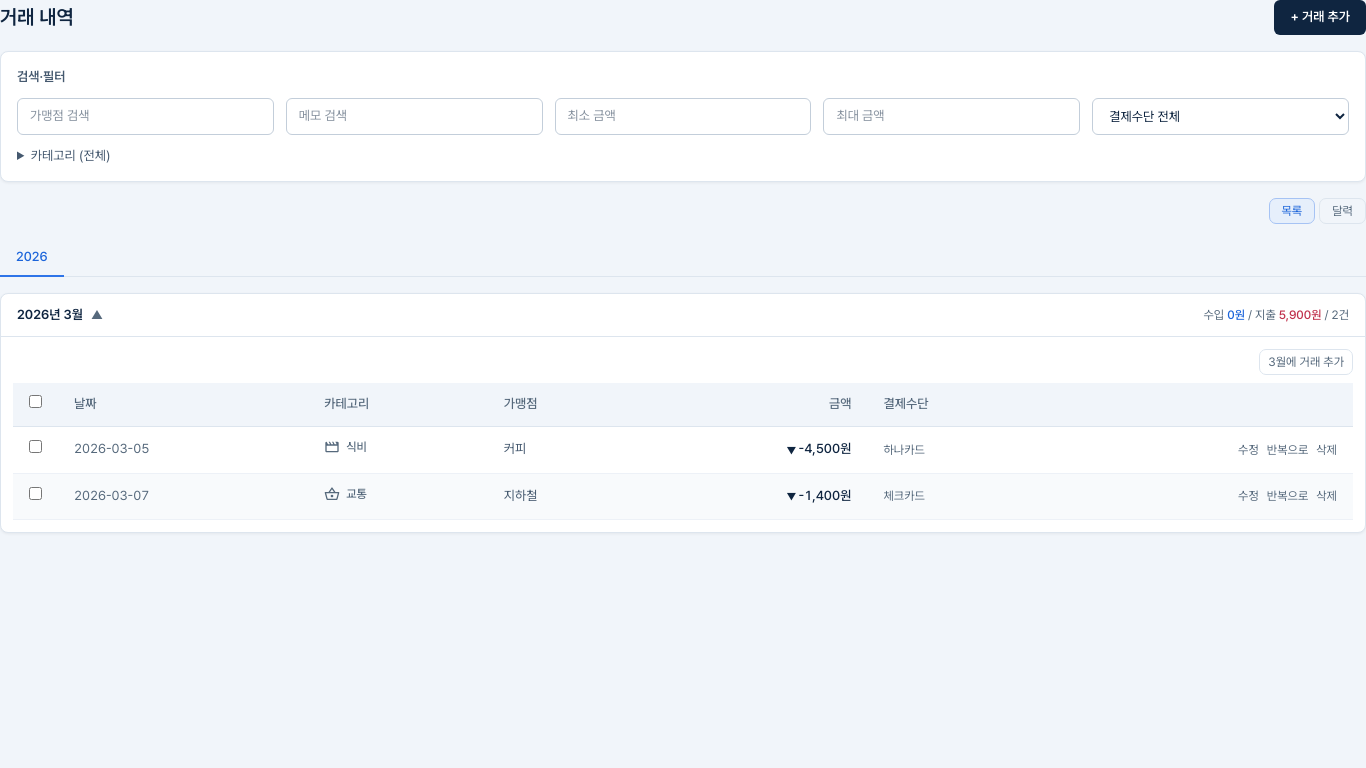
Test case: 일괄 삭제 › 몇 건인지와 되돌릴 수 없다는 것을 함께 알린다
The width and height of the screenshot is (1366, 768).
Click the checkbox named "2026-03-05 커피 거래 선택": [36, 447] box top-left (29, 440), bottom-right (42, 453)
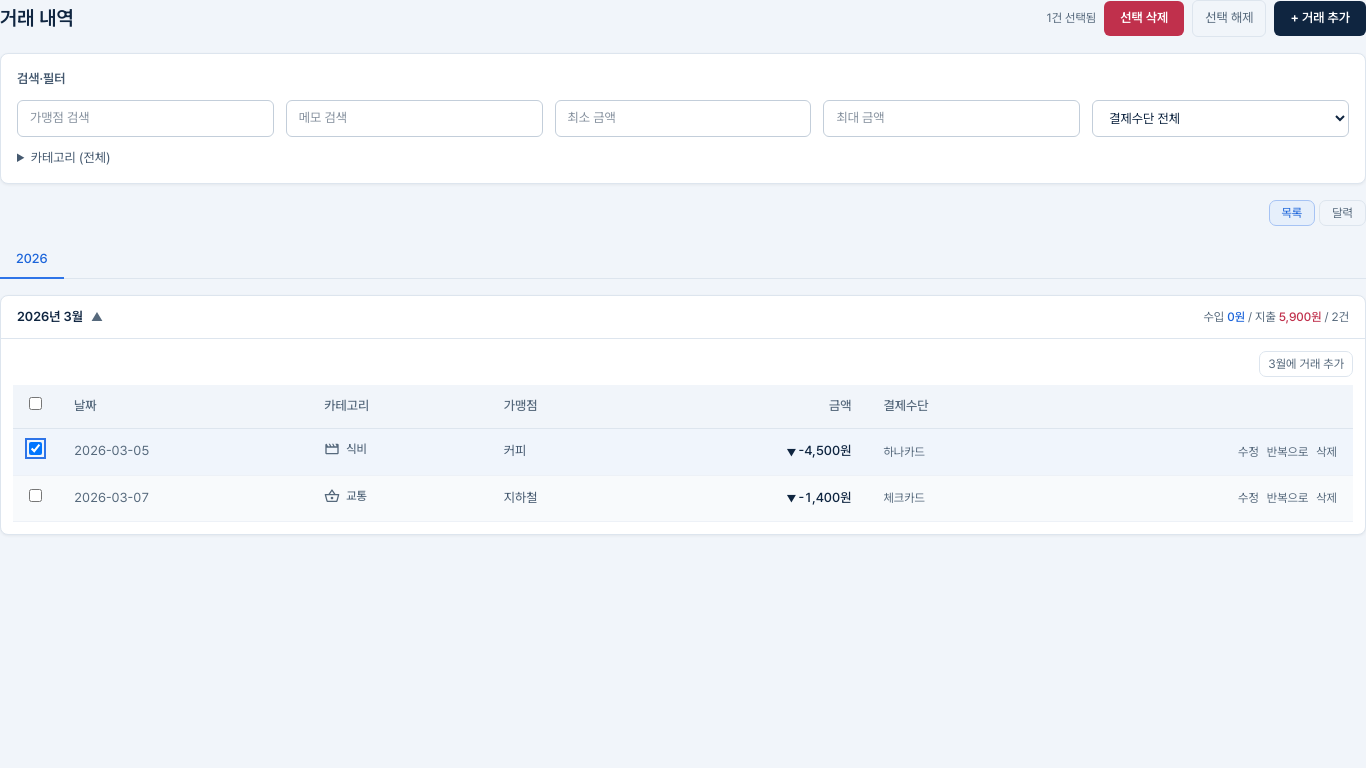
Click the checkbox named "2026-03-07 지하철 거래 선택": [36, 496] box top-left (29, 489), bottom-right (42, 502)
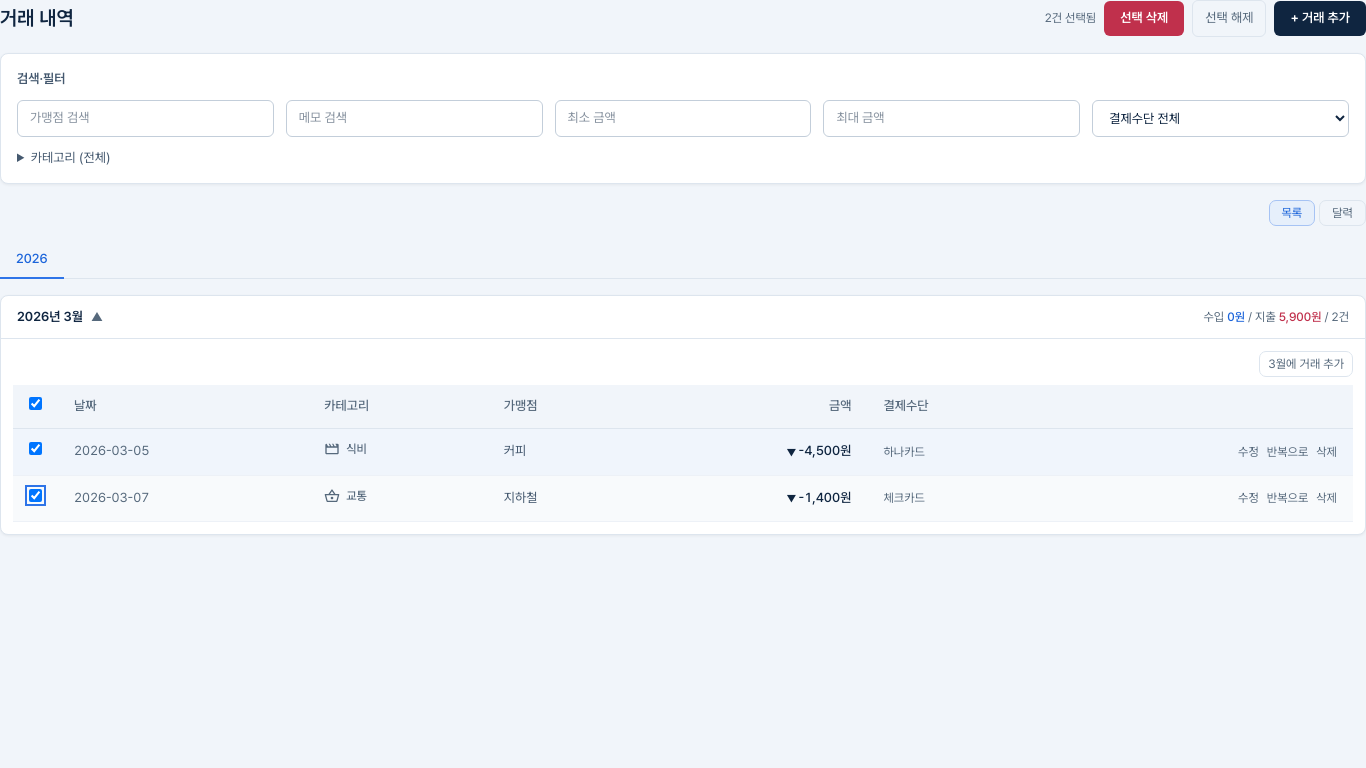
Click the button "선택 삭제": [1144, 18] box top-left (1104, 1), bottom-right (1184, 36)
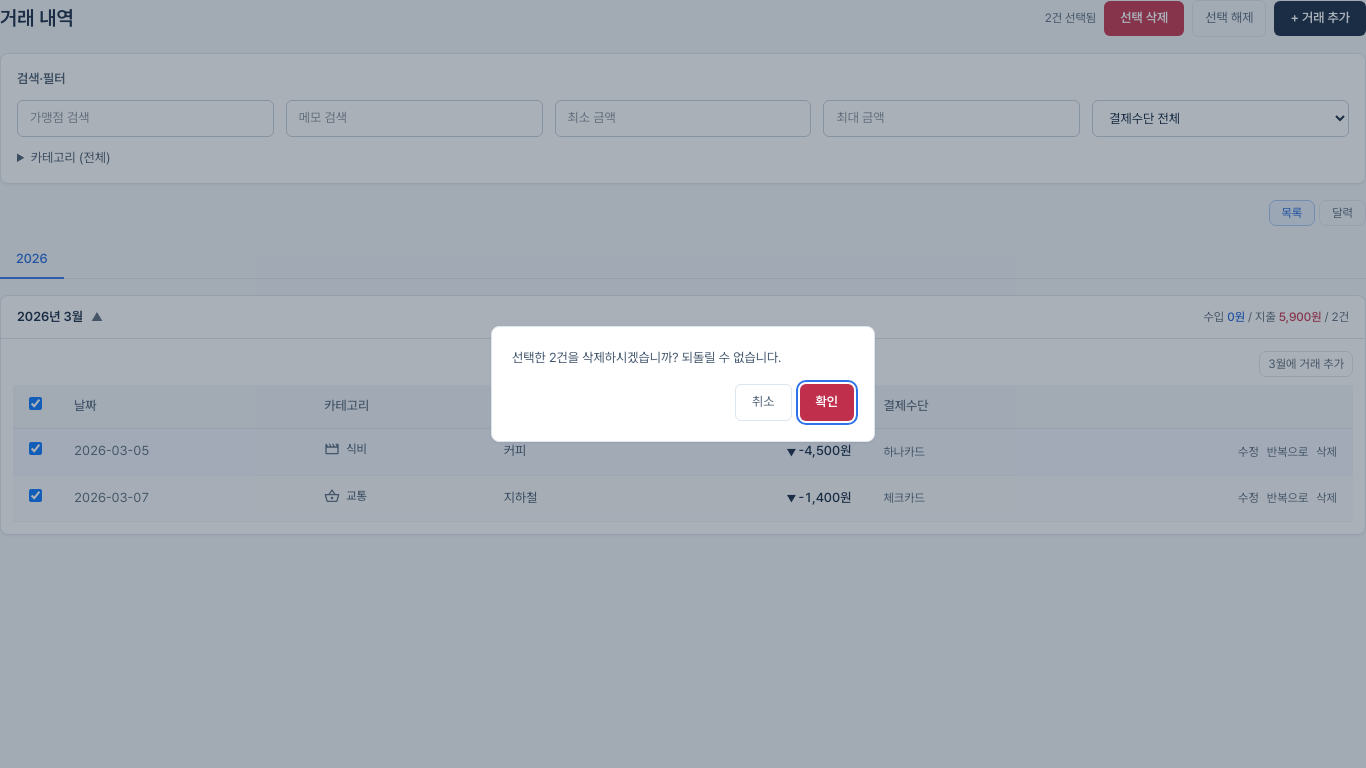
Expected: the text "선택한 2건을 삭제하시겠습니까? 되돌릴 수 없습니다." is shown, top-left (512, 350), bottom-right (781, 365)
